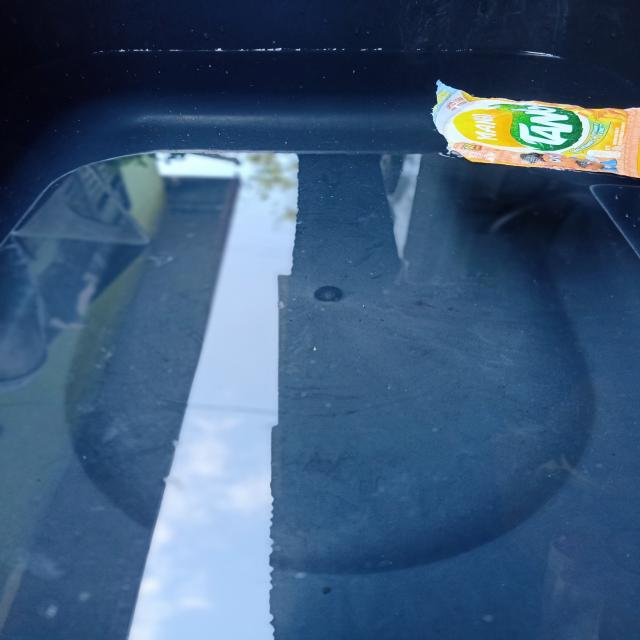Plastic Wrapper: (418, 69, 640, 187)
